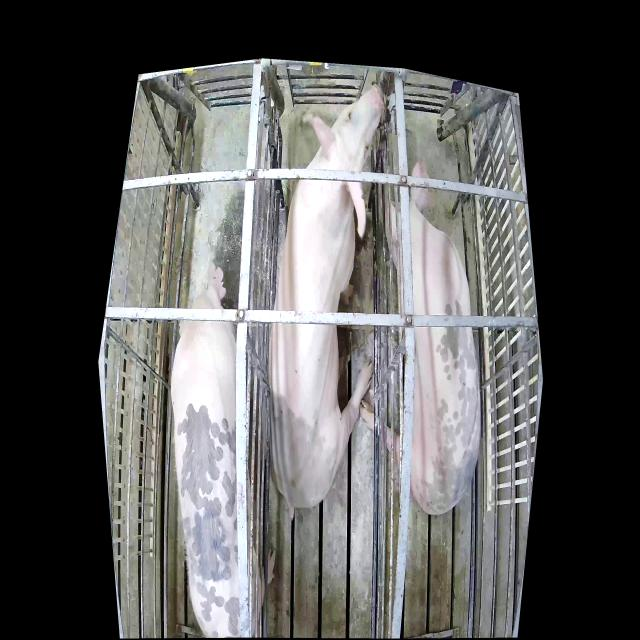pig: (269, 81, 387, 505), (361, 158, 482, 513), (170, 262, 276, 636)
